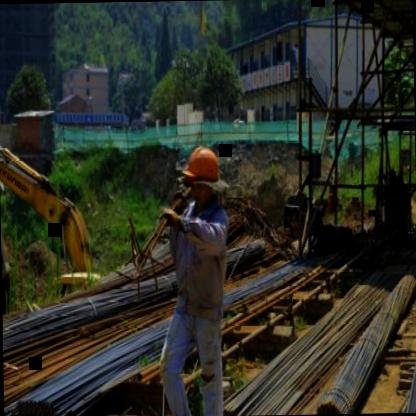helmet: (176, 139, 223, 207)
